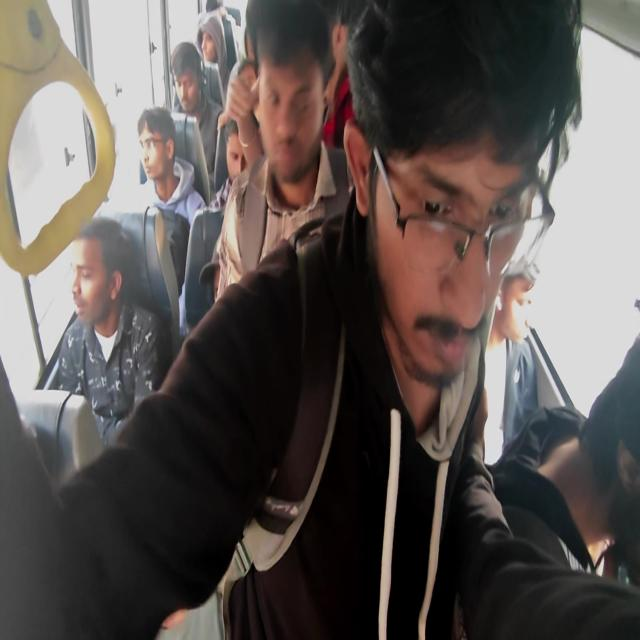person: (355, 53, 515, 372), (258, 17, 322, 154), (71, 210, 129, 339), (485, 231, 540, 356), (160, 39, 209, 106), (219, 108, 258, 185), (137, 105, 174, 184), (199, 14, 230, 62), (237, 53, 260, 105)
